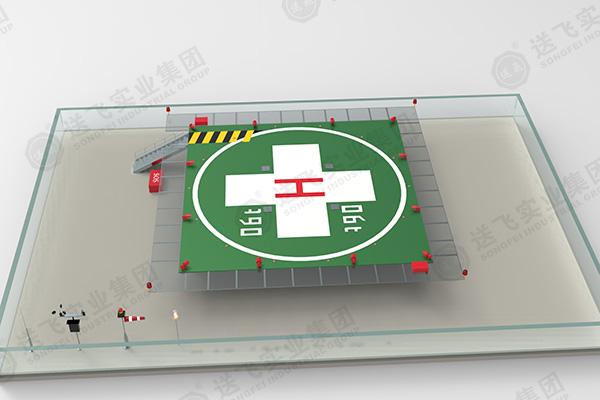H: (275, 179, 326, 199)
